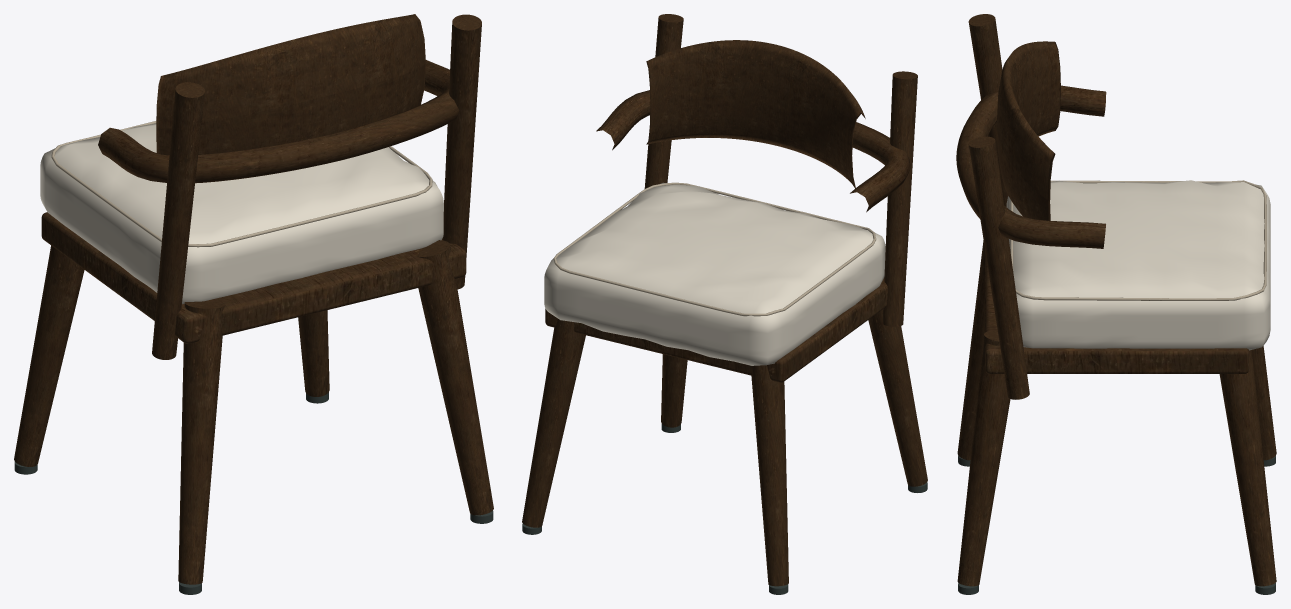
File: dining-oak-chair.glb
3 views of the same model, side by side, from view 1: azimuth 30°, elevation 25°; view 2: azimuth 150°, elevation 25°; view 3: azimuth 270°, elevation 25° (orthographic). The views are drawn at different scales.
Parts seen in each view (by area): view 1: oak_surfaces, linen_surfaces, welt_surfaces, steel_surfaces; view 2: oak_surfaces, linen_surfaces, welt_surfaces, steel_surfaces; view 3: oak_surfaces, linen_surfaces, welt_surfaces, steel_surfaces.
Part boxes in pixels (x1,y1,x2,y2): oak_surfaces: (14,14,493,584); linen_surfaces: (40,123,443,304); welt_surfaces: (51,121,432,247); steel_surfaces: (14,392,493,594); oak_surfaces: (522,14,927,586); linen_surfaces: (544,182,885,365); welt_surfaces: (553,182,876,316); steel_surfaces: (522,424,927,594); oak_surfaces: (956,14,1276,586); linen_surfaces: (1006,180,1270,350); welt_surfaces: (1010,180,1266,300); steel_surfaces: (958,455,1275,594).
Size of the model in its own units: 0.5707 by 0.82 by 0.5217.
Materials: 4 (1 with a texture image).
